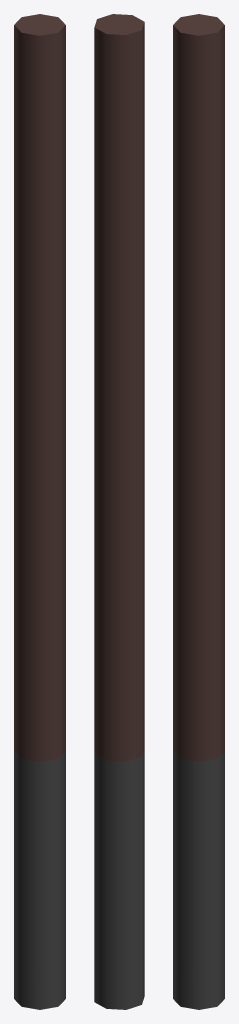
The model's file is shovel_handle.fbx.
3 views of the same model, side by side, from view 1: azimuth 90°, elevation 25°; view 2: azimuth 150°, elevation 25°; view 3: azimuth 270°, elevation 25° (orthographic).
Visible parts, largest first — view 1: shovel.handle; view 2: shovel.handle; view 3: shovel.handle.
Boxes of the visible parts, x1=… form: shovel.handle: x1=14, y1=14, x2=65, y2=1009; shovel.handle: x1=94, y1=14, x2=144, y2=1009; shovel.handle: x1=173, y1=14, x2=224, y2=1009.
Size of the model in its own units: 8.52 by 177 by 8.52.
